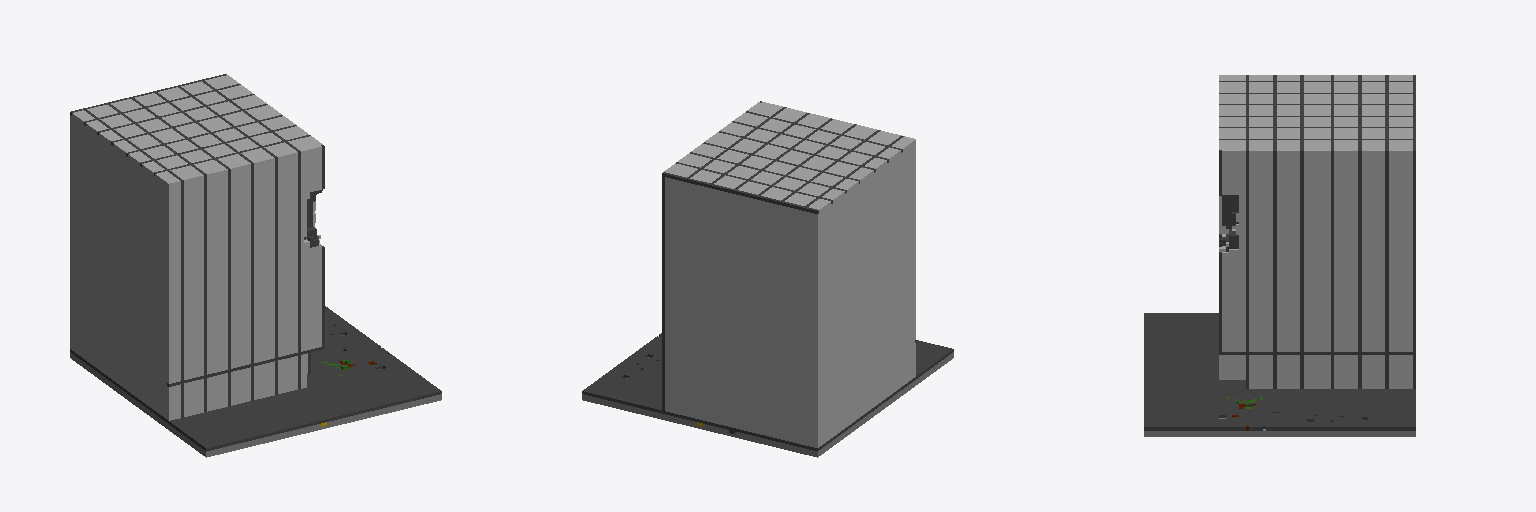
The picture shows the model from 3 angles: view 1: azimuth 30°, elevation 25°; view 2: azimuth 150°, elevation 25°; view 3: azimuth 270°, elevation 25°; orthographic projection.
Visible parts, largest first — view 1: object 1; view 2: object 1; view 3: object 1.
Boxes of the visible parts, x1=… form: object 1: x1=70, y1=74, x2=441, y2=457; object 1: x1=582, y1=101, x2=953, y2=457; object 1: x1=1144, y1=75, x2=1415, y2=436.
Size of the model in its own units: 8 by 8 by 8.
Materials: 1 (1 with a texture image).